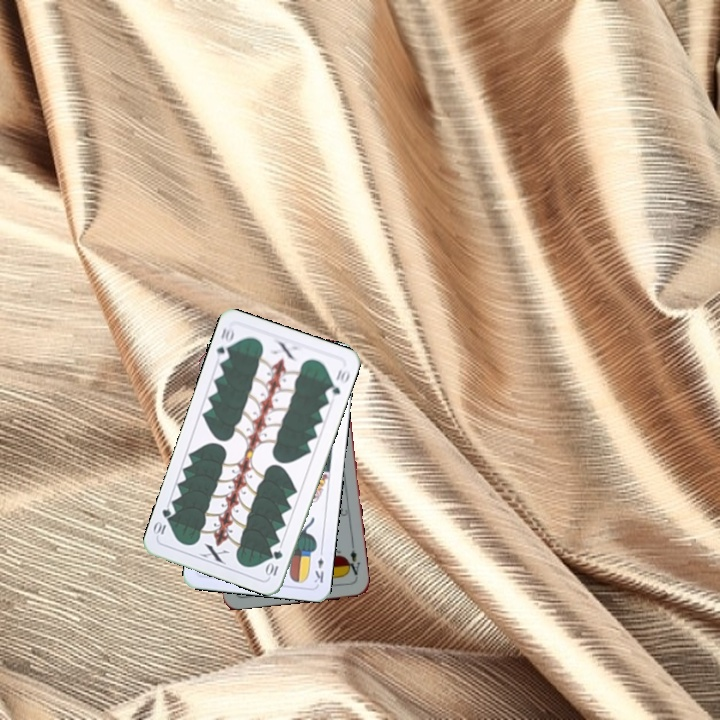EA: (343, 546, 363, 581)
EK: (310, 545, 326, 585)
G10: (212, 323, 237, 364), (262, 546, 285, 578)
